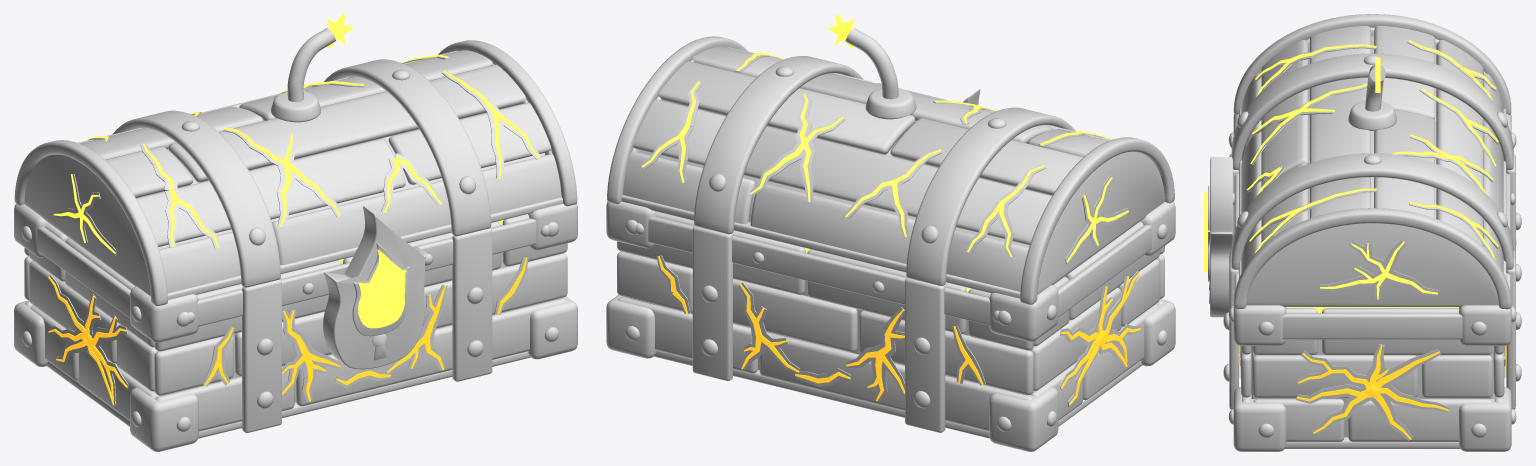
Rendered from Crate.Inferno.fbx.
3 views of the same model, side by side, from view 1: azimuth 30°, elevation 25°; view 2: azimuth 150°, elevation 25°; view 3: azimuth 270°, elevation 25° (orthographic). The views are drawn at different scales.
Visible parts, largest first — view 1: LidWood, BodyBrass, BodyWood, LidBrass, Spark, Lava, LatchSpark; view 2: LidWood, BodyWood, BodyBrass, LidBrass, Spark, Lava; view 3: LidWood, LidBrass, BodyWood, BodyBrass, Spark, Lava, LatchSpark.
Part boxes in pixels (left/top/right/bottom): LidWood: left=24, top=50, right=562, bottom=299; BodyBrass: left=14, top=203, right=577, bottom=451; BodyWood: left=24, top=214, right=567, bottom=438; LidBrass: left=14, top=28, right=577, bottom=305; Spark: left=53, top=14, right=539, bottom=253; Lava: left=48, top=257, right=526, bottom=404; LatchSpark: left=358, top=249, right=406, bottom=328; LidWood: left=621, top=46, right=1164, bottom=298; BodyWood: left=617, top=212, right=1164, bottom=438; BodyBrass: left=606, top=89, right=1175, bottom=451; LidBrass: left=607, top=28, right=1174, bottom=304; Spark: left=641, top=14, right=1128, bottom=262; Lava: left=658, top=256, right=1140, bottom=405; LidWood: left=1239, top=26, right=1506, bottom=306; LidBrass: left=1231, top=14, right=1513, bottom=309; BodyWood: left=1240, top=308, right=1505, bottom=448; BodyBrass: left=1208, top=114, right=1521, bottom=451; Spark: left=1247, top=40, right=1498, bottom=299; Lava: left=1238, top=345, right=1506, bottom=439; LatchSpark: left=1204, top=192, right=1209, bottom=272.
Size of the model in its own units: 463 by 328 by 302.
